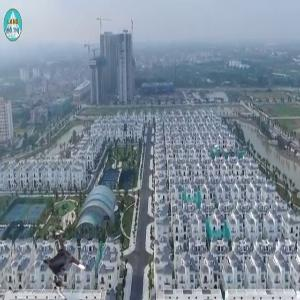drone: (29, 231, 98, 300)
